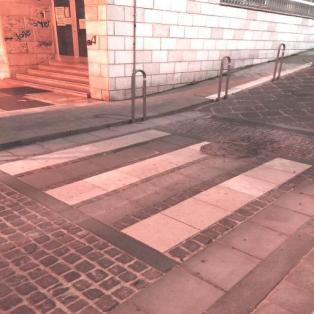Paso de Cebra: (0, 126, 224, 208)
